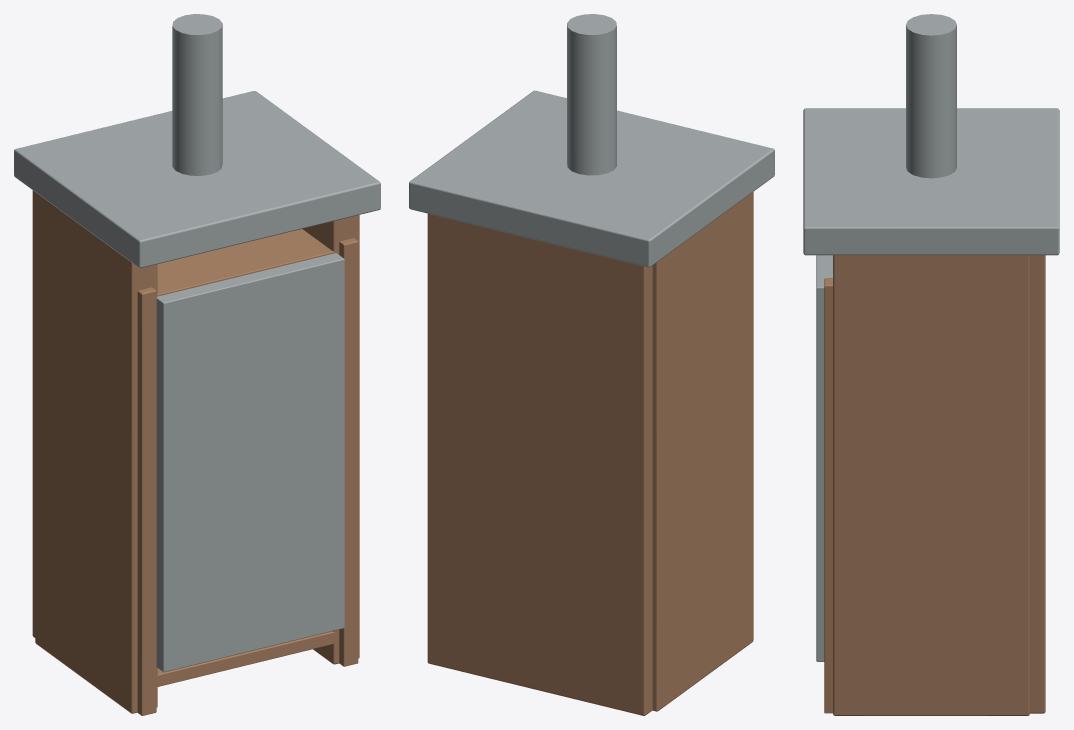
The model's file is survival-food-and-preservation-brick-smoke-cabinet-cc8459d6__21808.glb.
The picture shows the model from 3 angles, left to right: view 1: azimuth 30°, elevation 25°; view 2: azimuth 150°, elevation 25°; view 3: azimuth 270°, elevation 25°; orthographic projection.
Visible parts, largest first — view 1: brick-smoke-cabinet, door/metal; view 2: brick-smoke-cabinet; view 3: brick-smoke-cabinet, door/metal.
Part boxes in pixels (x1,y1,x2,y2): brick-smoke-cabinet: (14, 14, 380, 715); door/metal: (156, 253, 344, 672); brick-smoke-cabinet: (409, 14, 774, 715); brick-smoke-cabinet: (803, 14, 1059, 715); door/metal: (816, 255, 832, 661).
Bounding box in the file's own units: 0.72 × 1.78 × 0.65.
